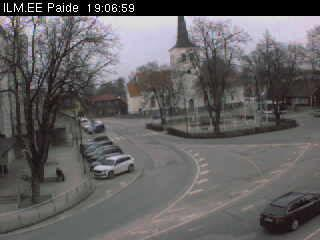bus: (257, 99, 287, 115)
car: (260, 191, 320, 233), (93, 153, 135, 180), (88, 144, 120, 163), (91, 153, 123, 171), (85, 141, 113, 159), (81, 135, 111, 151), (87, 124, 105, 133), (84, 120, 100, 130)
person: (55, 166, 65, 182)
